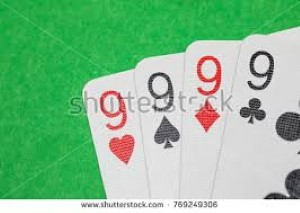NineOfClubs: (237, 25, 300, 203)
NineOfDiamonds: (181, 35, 234, 203)
NineOfHearts: (79, 63, 140, 194)
NineOfSpades: (134, 41, 187, 193)
